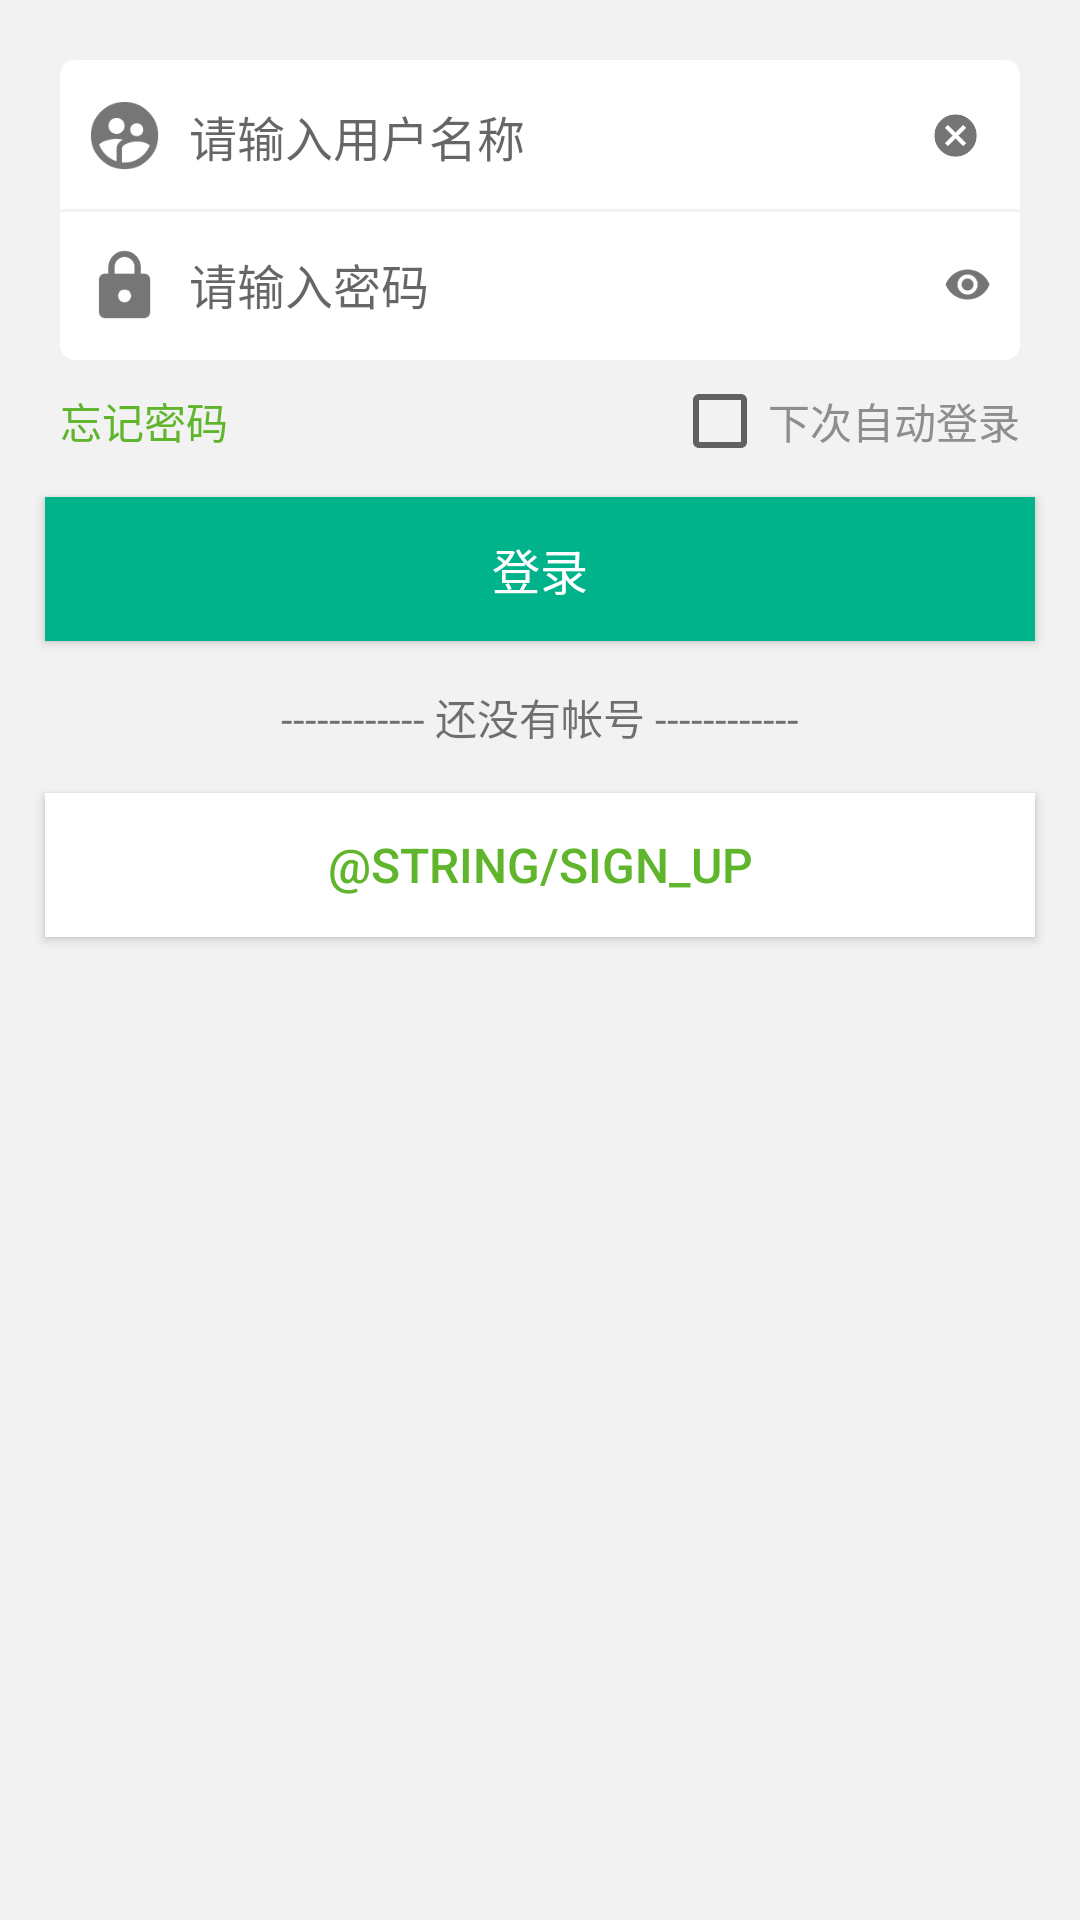

Where to tap for icons on this 1080px x 1920px app screen, as point (x, y):
cancel: point (955, 135)
supervised user circle: point (124, 135)
visibility: point (967, 284)
